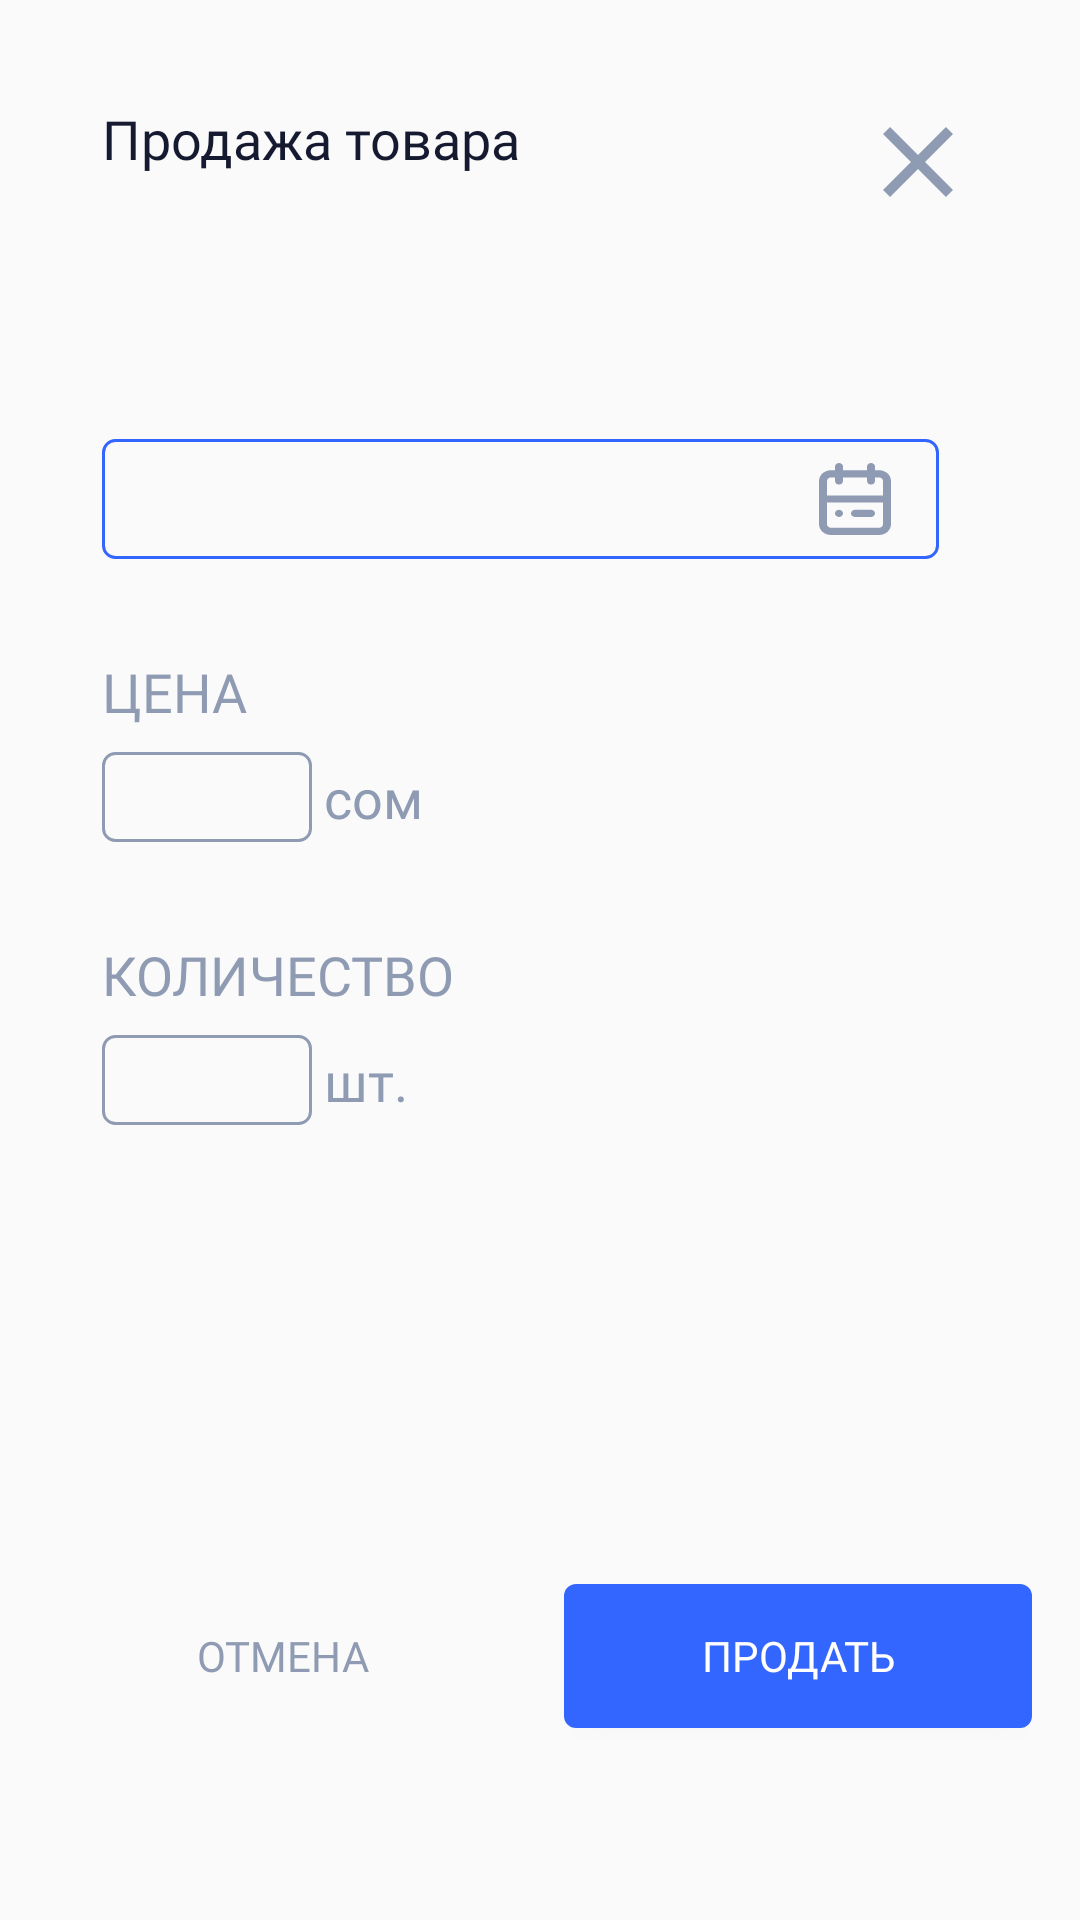

Icons on this 1080px x 1920px Android screen, each with its box as [x1=x1, y1=y1, x2=x2, y2=y2]:
Дата продажи: [x1=819, y1=463, x2=891, y2=535]
Закрыть: [x1=883, y1=127, x2=953, y2=197]
